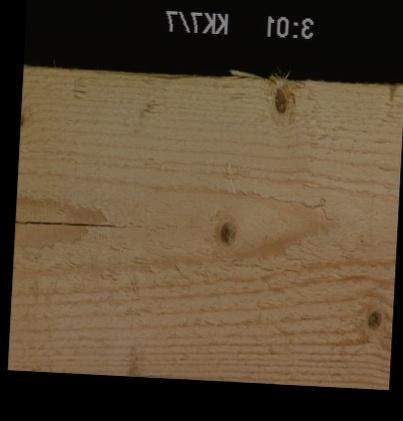dry_knot: (273, 86, 288, 113)
sound_knot: (217, 217, 238, 247), (365, 308, 383, 328)
split: (14, 219, 116, 227)
